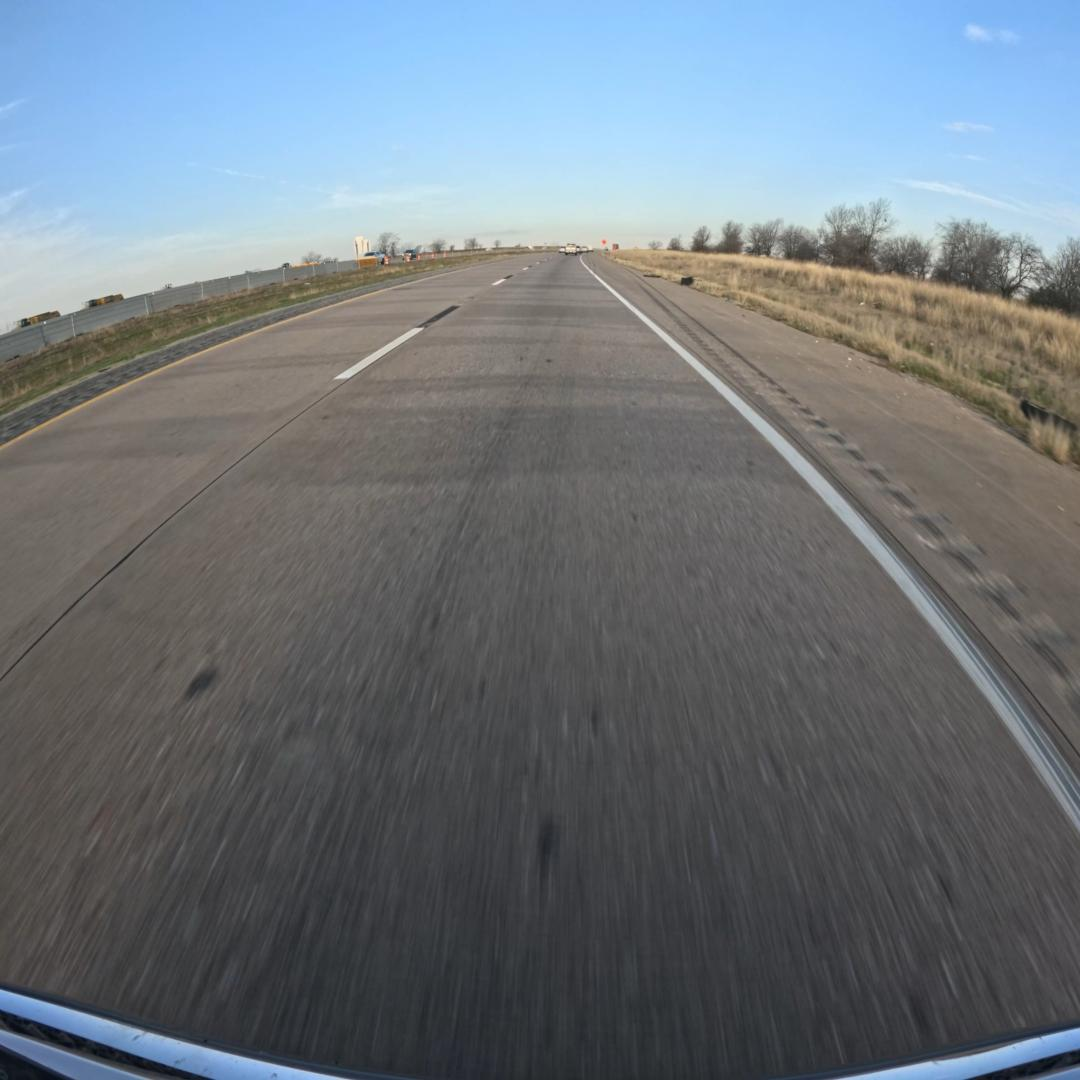lane0: (0, 259, 1080, 1080)
lane1: (0, 253, 557, 685)
